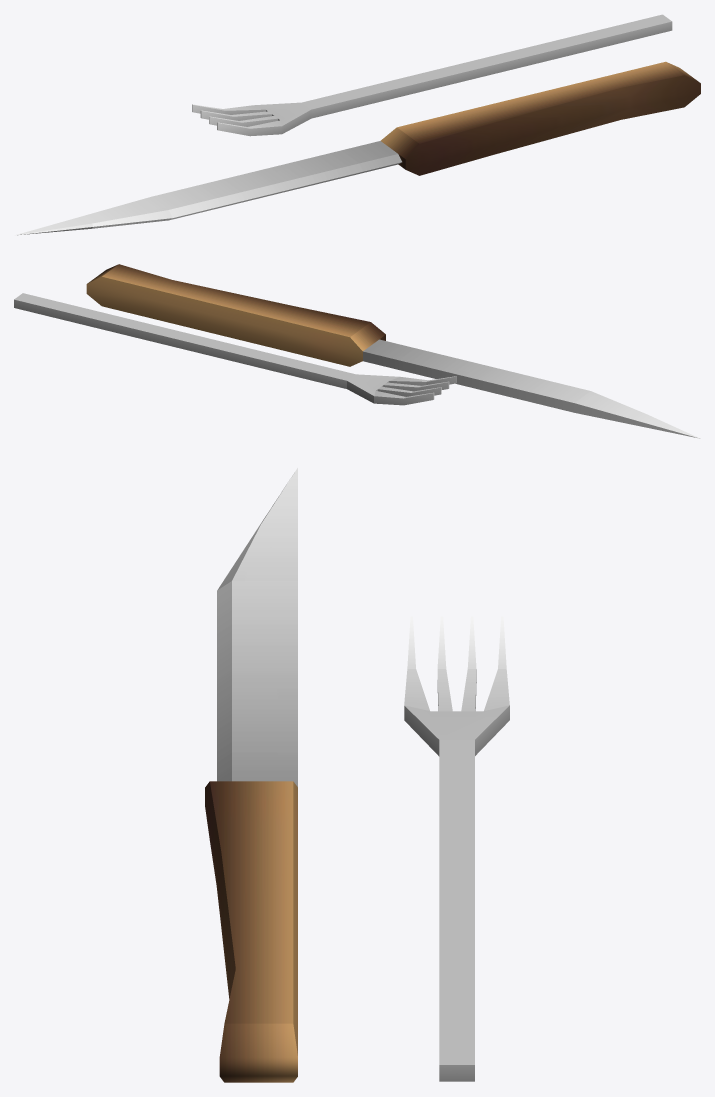
File: Cutlery.FBX
3 views of the same model, one above another, from view 1: azimuth 30°, elevation 25°; view 2: azimuth 150°, elevation 25°; view 3: azimuth 270°, elevation 25° (orthographic). The views are drawn at different scales.
Visible parts, largest first — view 1: Table Knife, FOrk; view 2: Table Knife, FOrk; view 3: Table Knife, FOrk.
Boxes of the visible parts, x1=… form: Table Knife: x1=15, y1=61, x2=700, y2=235; FOrk: x1=192, y1=14, x2=672, y2=136; Table Knife: x1=86, y1=264, x2=700, y2=438; FOrk: x1=14, y1=293, x2=456, y2=405; Table Knife: x1=205, y1=468, x2=297, y2=1082; FOrk: x1=404, y1=616, x2=509, y2=1081.
Bounding box in the file's own units: 9.03 × 0.6105 × 1.85.
1 material, 1 textured.
